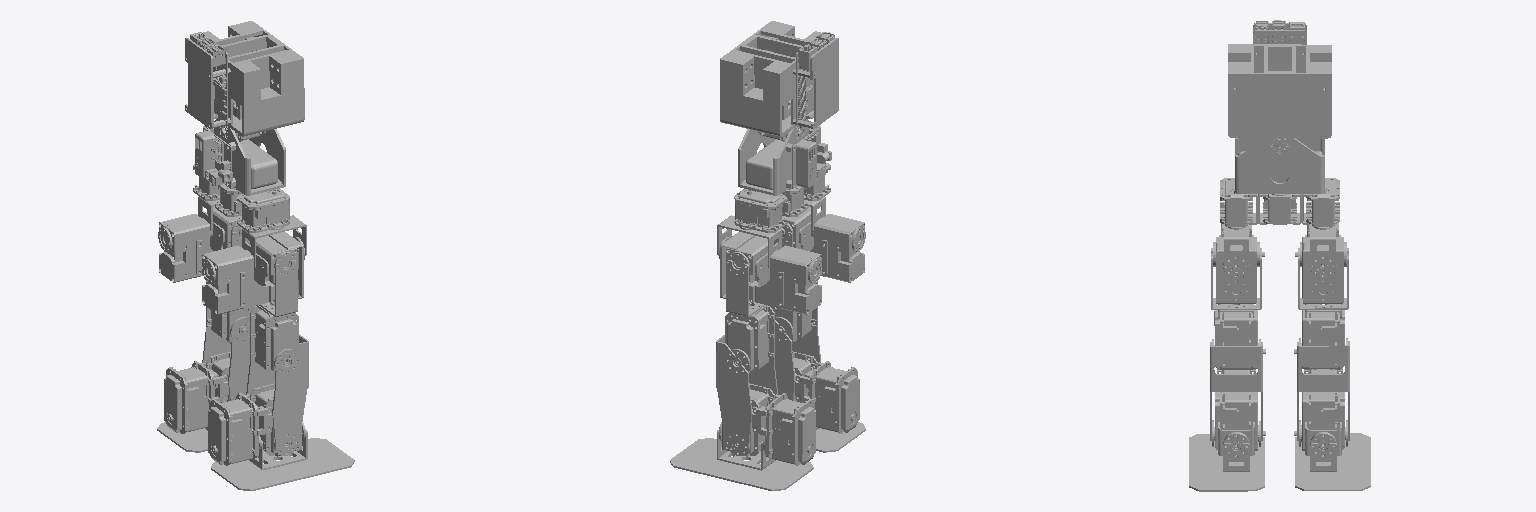
URDF robot description (rosaya_models):
<?xml version="1.0" encoding="utf-8"?>
<!-- This URDF was automatically created by SolidWorks to URDF Exporter! Originally created by [author] ([email redacted]) 
     Commit Version: 1.6.0-4-g7f85cfe  Build Version: 1.6.7995.38578
     For more information, please see http://wiki.ros.org/sw_urdf_exporter -->
<robot
  name="rosaya_models">
  <link
    name="Link1">
    <inertial>
      <origin
        xyz="-0.0140451869769053 -0.000102443179340425 0.424212396380785"
        rpy="0 0 0" />
      <mass
        value="0.264483114754865" />
      <inertia
        ixx="0.000377148965233947"
        ixy="2.5994599532165E-08"
        ixz="8.26900991274006E-06"
        iyy="0.000206025340153957"
        iyz="1.60054464463747E-07"
        izz="0.000337797285188758" />
    </inertial>
    <visual>
      <origin
        xyz="0 0 0"
        rpy="0 0 0" />
      <geometry>
        <mesh
          filename="package://rosaya_models/meshes/Link1.STL" />
      </geometry>
      <material
        name="">
        <color
          rgba="0.752941176470588 0.752941176470588 0.752941176470588 1" />
      </material>
    </visual>
    <collision>
      <origin
        xyz="0 0 0"
        rpy="0 0 0" />
      <geometry>
        <mesh
          filename="package://rosaya_models/meshes/Link1.STL" />
      </geometry>
    </collision>
  </link>
  <link
    name="Link2">
    <inertial>
      <origin
        xyz="0.0275163486490869 -0.000225038484028668 -0.0398526629439051"
        rpy="0 0 0" />
      <mass
        value="0.266759815938641" />
      <inertia
        ixx="0.000201939143646351"
        ixy="-2.02604473576346E-07"
        ixz="2.92452499794774E-07"
        iyy="6.97314124612398E-05"
        iyz="6.70715099069118E-07"
        izz="0.000208906968608255" />
    </inertial>
    <visual>
      <origin
        xyz="0 0 0"
        rpy="0 0 0" />
      <geometry>
        <mesh
          filename="package://rosaya_models/meshes/Link2.STL" />
      </geometry>
      <material
        name="">
        <color
          rgba="0.752941176470588 0.752941176470588 0.752941176470588 1" />
      </material>
    </visual>
    <collision>
      <origin
        xyz="0 0 0"
        rpy="0 0 0" />
      <geometry>
        <mesh
          filename="package://rosaya_models/meshes/Link2.STL" />
      </geometry>
    </collision>
  </link>
  <joint
    name="Joint1"
    type="revolute">
    <origin
      xyz="0.0150416145062784 -0.000145225937100715 0.375282029235617"
      rpy="0.00310746977134566 0 -3.14159265358979" />
    <parent
      link="Link1" />
    <child
      link="Link2" />
    <axis
      xyz="-1 0 0" />
    <limit 
      effort= "0" velocity="0" lower="-1" upper="1"/>
    <safety_controller 
      k_velocity="0" k_position="0" soft_lower_limit="-0.6" soft_upper_limit="0.6" />
  </joint>
  <link
    name="Link3">
    <inertial>
      <origin
        xyz="-0.0108043634184127 2.16609979877824E-06 -0.0246321946172634"
        rpy="0 0 0" />
      <mass
        value="0.141461102552141" />
      <inertia
        ixx="2.39627133598282E-05"
        ixy="2.90037379199943E-09"
        ixz="1.8274454421264E-07"
        iyy="3.84330097232021E-05"
        iyz="-3.81895596612324E-11"
        izz="3.16699542466875E-05" />
    </inertial>
    <visual>
      <origin
        xyz="0 0 0"
        rpy="0 0 0" />
      <geometry>
        <mesh
          filename="package://rosaya_models/meshes/Link3.STL" />
      </geometry>
      <material
        name="">
        <color
          rgba="0.752941176470588 0.752941176470588 0.752941176470588 1" />
      </material>
    </visual>
    <collision>
      <origin
        xyz="0 0 0"
        rpy="0 0 0" />
      <geometry>
        <mesh
          filename="package://rosaya_models/meshes/Link3.STL" />
      </geometry>
    </collision>
  </link>
  <joint
    name="Joint2"
    type="revolute">
    <origin
      xyz="0.0150417125919951 -0.00017124992576488 -0.0551096819554042"
      rpy="0.00310746977134566 0 3.14159265358979" />
    <parent
      link="Link2" />
    <child
      link="Link3" />
    <axis
      xyz="0 0 -1" />
    <limit 
      effort= "0" velocity="0" lower="-2" upper="2"/>
    <safety_controller 
      k_velocity="0" k_position="0" soft_lower_limit="-1.5" soft_upper_limit="1.5" />
  </joint>
  <link
    name="L_Link">
    <inertial>
      <origin
        xyz="2.50323684336529E-07 7.44298438559027E-08 -0.009497265940245"
        rpy="0 0 0" />
      <mass
        value="0.00620476919773645" />
      <inertia
        ixx="1.16709532356444E-06"
        ixy="2.24128152883016E-14"
        ixz="-1.31754042277062E-11"
        iyy="4.70615058588181E-06"
        iyz="-3.91750100003524E-12"
        izz="4.36737368608336E-06" />
    </inertial>
    <visual>
      <origin
        xyz="0 0 0"
        rpy="0 0 0" />
      <geometry>
        <mesh
          filename="package://rosaya_models/meshes/L_Link.STL" />
      </geometry>
      <material
        name="">
        <color
          rgba="0.752941176470588 0.752941176470588 0.752941176470588 1" />
      </material>
    </visual>
    <collision>
      <origin
        xyz="0 0 0"
        rpy="0 0 0" />
      <geometry>
        <mesh
          filename="package://rosaya_models/meshes/L_Link.STL" />
      </geometry>
    </collision>
  </link>
  <joint
    name="Joint3"
    type="revolute">
    <origin
      xyz="0 0.045659264836335 -0.0460755308216049"
      rpy="0 0 -0.000200463315012628" />
    <parent
      link="Link3" />
    <child
      link="L_Link" />
    <axis
      xyz="0 0 -1" />
    <limit 
      effort= "0" velocity="0" lower="-1" upper="1"/>
    <safety_controller 
      k_velocity="0" k_position="0" soft_lower_limit="-0.7" soft_upper_limit="0.7" />
  </joint>
  <link
    name="L_Link1">
    <inertial>
      <origin
        xyz="0.00657311272351697 -0.000309350747005263 -0.0151748569832827"
        rpy="0 0 0" />
      <mass
        value="0.18639489707273" />
      <inertia
        ixx="7.83297449900637E-05"
        ixy="3.05121819265623E-12"
        ixz="-1.95916960725846E-07"
        iyy="7.66987387899111E-05"
        iyz="1.61633318765208E-07"
        izz="4.72446830208299E-05" />
    </inertial>
    <visual>
      <origin
        xyz="0 0 0"
        rpy="0 0 0" />
      <geometry>
        <mesh
          filename="package://rosaya_models/meshes/L_Link1.STL" />
      </geometry>
      <material
        name="">
        <color
          rgba="0.752941176470588 0.752941176470588 0.752941176470588 1" />
      </material>
    </visual>
    <collision>
      <origin
        xyz="0 0 0"
        rpy="0 0 0" />
      <geometry>
        <mesh
          filename="package://rosaya_models/meshes/L_Link1.STL" />
      </geometry>
    </collision>
  </link>
  <joint
    name="Joint5"
    type="revolute">
    <origin
      xyz="-0.0317500000000014 0 -0.0339141545469447"
      rpy="0.000537539761406673 0 0" />
    <parent
      link="L_Link" />
    <child
      link="L_Link1" />
    <axis
      xyz="-1 0 0" />
    <limit 
      effort= "0" velocity="0" lower="-0.7" upper="0.7"/>
    <safety_controller 
      k_velocity="0" k_position="0" soft_lower_limit="-0.25" soft_upper_limit="0.25" />
  </joint>
  <link
    name="L_Link2">
    <inertial>
      <origin
        xyz="-0.000485947927418726 0.0245791199167028 -0.0913077482560078"
        rpy="0 0 0" />
      <mass
        value="0.0990788181499382" />
      <inertia
        ixx="4.93824228389883E-05"
        ixy="-2.94635540720296E-09"
        ixz="-1.12132818777156E-07"
        iyy="3.6564094548438E-05"
        iyz="-1.06282556014619E-06"
        izz="2.89120074625432E-05" />
    </inertial>
    <visual>
      <origin
        xyz="0 0 0"
        rpy="0 0 0" />
      <geometry>
        <mesh
          filename="package://rosaya_models/meshes/L_Link2.STL" />
      </geometry>
      <material
        name="">
        <color
          rgba="0.752941176470588 0.752941176470588 0.752941176470588 1" />
      </material>
    </visual>
    <collision>
      <origin
        xyz="0 0 0"
        rpy="0 0 0" />
      <geometry>
        <mesh
          filename="package://rosaya_models/meshes/L_Link2.STL" />
      </geometry>
    </collision>
  </link>
  <joint
    name="Joint7"
    type="revolute">
    <origin
      xyz="0.0317200000000001 -0.0244999999999996 0"
      rpy="0 0 0" />
    <parent
      link="L_Link1" />
    <child
      link="L_Link2" />
    <axis
      xyz="0 -1 0" />
    <limit 
      effort= "0" velocity="0" lower="-0.8" upper="2"/>
    <safety_controller 
      k_velocity="0" k_position="0" soft_lower_limit="-0.45" soft_upper_limit="1.5" />
  </joint>
  <link
    name="L_Link3">
    <inertial>
      <origin
        xyz="0.00932898247433369 0.0260353980000009 -0.0336820846788216"
        rpy="0 0 0" />
      <mass
        value="0.0193582268613659" />
      <inertia
        ixx="3.00375991900623E-05"
        ixy="1.78753730372709E-20"
        ixz="-4.16144772485329E-06"
        iyy="2.14370365193727E-05"
        iyz="1.96098359812431E-19"
        izz="1.54337749522801E-05" />
    </inertial>
    <visual>
      <origin
        xyz="0 0 0"
        rpy="0 0 0" />
      <geometry>
        <mesh
          filename="package://rosaya_models/meshes/L_Link3.STL" />
      </geometry>
      <material
        name="">
        <color
          rgba="0.752941176470588 0.752941176470588 0.752941176470588 1" />
      </material>
    </visual>
    <collision>
      <origin
        xyz="0 0 0"
        rpy="0 0 0" />
      <geometry>
        <mesh
          filename="package://rosaya_models/meshes/L_Link3.STL" />
      </geometry>
    </collision>
  </link>
  <joint
    name="Joint9"
    type="revolute">
    <origin
      xyz="-0.000558037765886032 -0.00140000000000197 -0.112828252884564"
      rpy="0 -0.000303003582677282 0" />
    <parent
      link="L_Link2" />
    <child
      link="L_Link3" />
    <axis
      xyz="0 -1 0" />
    <limit 
      effort= "0" velocity="0" lower="-2.5" upper="0.5"/>
    <safety_controller 
      k_velocity="0" k_position="0" soft_lower_limit="-2.2" soft_upper_limit="0.2" />
  </joint>
  <link
    name="L_Link4">
    <inertial>
      <origin
        xyz="0.0229326730067766 -0.0259869723493596 0.0153883242508742"
        rpy="0 0 0" />
      <mass
        value="0.182895656171114" />
      <inertia
        ixx="7.53620801606469E-05"
        ixy="9.74709752344958E-14"
        ixz="-1.07043004505627E-06"
        iyy="7.48745810421612E-05"
        iyz="1.06447109761369E-06"
        izz="4.69411945289824E-05" />
    </inertial>
    <visual>
      <origin
        xyz="0 0 0"
        rpy="0 0 0" />
      <geometry>
        <mesh
          filename="package://rosaya_models/meshes/L_Link4.STL" />
      </geometry>
      <material
        name="">
        <color
          rgba="0.752941176470588 0.752941176470588 0.752941176470588 1" />
      </material>
    </visual>
    <collision>
      <origin
        xyz="0 0 0"
        rpy="0 0 0" />
      <geometry>
        <mesh
          filename="package://rosaya_models/meshes/L_Link4.STL" />
      </geometry>
    </collision>
  </link>
  <joint
    name="Joint11"
    type="revolute">
    <origin
      xyz="0 0 -0.0949999999999996"
      rpy="0 -0.000302748335169453 3.14159265358979" />
    <parent
      link="L_Link3" />
    <child
      link="L_Link4" />
    <axis
      xyz="0 -1 0" />
    <limit 
      effort= "0" velocity="0" lower="-2." upper="1"/>
    <safety_controller 
      k_velocity="0" k_position="0" soft_lower_limit="-1.62" soft_upper_limit="0.7" />
  </joint>
  <link
    name="L_Link5">
    <inertial>
      <origin
        xyz="-0.0279100000022213 -0.00784814161879391 -0.0292680262318618"
        rpy="0 0 0" />
      <mass
        value="0.0728910331350744" />
      <inertia
        ixx="3.33197131957481E-05"
        ixy="-2.71246541755995E-14"
        ixz="-8.07357015135364E-16"
        iyy="0.000102630001589937"
        iyz="-1.64946572156077E-12"
        izz="0.000132875198487612" />
    </inertial>
    <visual>
      <origin
        xyz="0 0 0"
        rpy="0 0 0" />
      <geometry>
        <mesh
          filename="package://rosaya_models/meshes/L_Link5.STL" />
      </geometry>
      <material
        name="">
        <color
          rgba="0.752941176470588 0.752941176470588 0.752941176470588 1" />
      </material>
    </visual>
    <collision>
      <origin
        xyz="0 0 0"
        rpy="0 0 0" />
      <geometry>
        <mesh
          filename="package://rosaya_models/meshes/L_Link5.STL" />
      </geometry>
    </collision>
  </link>
  <joint
    name="Joint13"
    type="revolute">
    <origin
      xyz="0.0235999999999932 -0.0259999999999994 0"
      rpy="0 0 0" />
    <parent
      link="L_Link4" />
    <child
      link="L_Link5" />
    <axis
      xyz="-1 0 0" />
    <limit 
      effort= "0" velocity="0" lower="-2" upper="2"/>
    <safety_controller 
      k_velocity="0" k_position="0" soft_lower_limit="-1.58" soft_upper_limit="1.58" />
  </joint>
  <link
    name="R_Link">
    <inertial>
      <origin
        xyz="2.50323684322651E-07 7.44298438298818E-08 -0.009497265940245"
        rpy="0 0 0" />
      <mass
        value="0.00620476919773645" />
      <inertia
        ixx="1.16709532356444E-06"
        ixy="2.24128168484417E-14"
        ixz="-1.31754042254942E-11"
        iyy="4.70615058588182E-06"
        iyz="-3.91750099867982E-12"
        izz="4.36737368608336E-06" />
    </inertial>
    <visual>
      <origin
        xyz="0 0 0"
        rpy="0 0 0" />
      <geometry>
        <mesh
          filename="package://rosaya_models/meshes/R_Link.STL" />
      </geometry>
      <material
        name="">
        <color
          rgba="0.752941176470588 0.752941176470588 0.752941176470588 1" />
      </material>
    </visual>
    <collision>
      <origin
        xyz="0 0 0"
        rpy="0 0 0" />
      <geometry>
        <mesh
          filename="package://rosaya_models/meshes/R_Link.STL" />
      </geometry>
    </collision>
  </link>
  <joint
    name="Joint4"
    type="revolute">
    <origin
      xyz="0 -0.0456592648363355 -0.0460755308216101"
      rpy="0 0 -0.000200463315012628" />
    <parent
      link="Link3" />
    <child
      link="R_Link" />
    <axis
      xyz="0 0 -1" />
    <limit 
      effort= "0" velocity="0" lower="-1" upper="1"/>
    <safety_controller 
      k_velocity="0" k_position="0" soft_lower_limit="-0.7" soft_upper_limit="0.7" />
  </joint>
  <link
    name="R_Link1">
    <inertial>
      <origin
        xyz="0.00657493812540676 0.000309357807021043 -0.0151748569832826"
        rpy="0 0 0" />
      <mass
        value="0.18639489707273" />
      <inertia
        ixx="7.83297449900636E-05"
        ixy="3.05121820196201E-12"
        ixz="-1.95917088531604E-07"
        iyy="7.6698738789911E-05"
        iyz="-1.62133778034599E-07"
        izz="4.72446830208299E-05" />
    </inertial>
    <visual>
      <origin
        xyz="0 0 0"
        rpy="0 0 0" />
      <geometry>
        <mesh
          filename="package://rosaya_models/meshes/R_Link1.STL" />
      </geometry>
      <material
        name="">
        <color
          rgba="0.752941176470588 0.752941176470588 0.752941176470588 1" />
      </material>
    </visual>
    <collision>
      <origin
        xyz="0 0 0"
        rpy="0 0 0" />
      <geometry>
        <mesh
          filename="package://rosaya_models/meshes/R_Link1.STL" />
      </geometry>
    </collision>
  </link>
  <joint
    name="Joint6"
    type="revolute">
    <origin
      xyz="-0.0317499999999999 0 -0.0339141545469453"
      rpy="0.000537539765574113 0 0" />
    <parent
      link="R_Link" />
    <child
      link="R_Link1" />
    <axis
      xyz="-1 0 0" />
    <limit 
      effort= "0" velocity="0" lower="-0.7" upper="0.7"/>
    <safety_controller 
      k_velocity="0" k_position="0" soft_lower_limit="-0.25" soft_upper_limit="0.25" />
  </joint>
  <link
    name="R_Link2">
    <inertial>
      <origin
        xyz="2.80111859402715E-05 0.0245791212735314 -0.0912599475740594"
        rpy="0 0 0" />
      <mass
        value="0.0990788181535519" />
      <inertia
        ixx="4.93830312794501E-05"
        ixy="2.31024992829368E-09"
        ixz="7.60281236107224E-09"
        iyy="3.65640945538293E-05"
        iyz="-1.06282733006272E-06"
        izz="2.89113990286086E-05" />
    </inertial>
    <visual>
      <origin
        xyz="0 0 0"
        rpy="0 0 0" />
      <geometry>
        <mesh
          filename="package://rosaya_models/meshes/R_Link2.STL" />
      </geometry>
      <material
        name="">
        <color
          rgba="0.752941176470588 0.752941176470588 0.752941176470588 1" />
      </material>
    </visual>
    <collision>
      <origin
        xyz="0 0 0"
        rpy="0 0 0" />
      <geometry>
        <mesh
          filename="package://rosaya_models/meshes/R_Link2.STL" />
      </geometry>
    </collision>
  </link>
  <joint
    name="Joint8"
    type="revolute">
    <origin
      xyz="0.031720000000165 0.0245000000000003 -4.90873395437297E-05"
      rpy="0 0 -3.14159265358979" />
    <parent
      link="R_Link1" />
    <child
      link="R_Link2" />
    <axis
      xyz="0 -1 0" />
    <limit 
      effort= "0" velocity="0" lower="-2" upper="0.8"/>
    <safety_controller 
      k_velocity="0" k_position="0" soft_lower_limit="-1.5" soft_upper_limit="0.45" />
  </joint>
  <link
    name="R_Link3">
    <inertial>
      <origin
        xyz="-0.00932898252848983 0.0260353980000001 -0.0336820846638228"
        rpy="0 0 0" />
      <mass
        value="0.0193582268613659" />
      <inertia
        ixx="3.00375992034434E-05"
        ixy="-2.69594705243283E-20"
        ixz="4.16144770137387E-06"
        iyy="2.14370365193727E-05"
        iyz="-1.88595165744634E-19"
        izz="1.54337749388988E-05" />
    </inertial>
    <visual>
      <origin
        xyz="0 0 0"
        rpy="0 0 0" />
      <geometry>
        <mesh
          filename="package://rosaya_models/meshes/R_Link3.STL" />
      </geometry>
      <material
        name="">
        <color
          rgba="0.752941176470588 0.752941176470588 0.752941176470588 1" />
      </material>
    </visual>
    <collision>
      <origin
        xyz="0 0 0"
        rpy="0 0 0" />
      <geometry>
        <mesh
          filename="package://rosaya_models/meshes/R_Link3.STL" />
      </geometry>
    </collision>
  </link>
  <joint
    name="Joint10"
    type="revolute">
    <origin
      xyz="0 -0.0014000000000008 -0.11278054553733"
      rpy="0 0 0" />
    <parent
      link="R_Link2" />
    <child
      link="R_Link3" />
    <axis
      xyz="0 -1 0" />
    <limit 
      effort= "0" velocity="0" lower="-0.5" upper="2.5"/>
    <safety_controller 
      k_velocity="0" k_position="0" soft_lower_limit="-0.2" soft_upper_limit="2.2" />
  </joint>
  <link
    name="R_Link4">
    <inertial>
      <origin
        xyz="-0.0229292401554875 -0.0259904059352682 0.0153884170261417"
        rpy="0 0 0" />
      <mass
        value="0.182895656171117" />
      <inertia
        ixx="7.53620801606485E-05"
        ixy="9.74709990804585E-14"
        ixz="1.07371232224204E-06"
        iyy="7.48745810421634E-05"
        iyz="1.06118336765581E-06"
        izz="4.69411945289827E-05" />
    </inertial>
    <visual>
      <origin
        xyz="0 0 0"
        rpy="0 0 0" />
      <geometry>
        <mesh
          filename="package://rosaya_models/meshes/R_Link4.STL" />
      </geometry>
      <material
        name="">
        <color
          rgba="0.752941176470588 0.752941176470588 0.752941176470588 1" />
      </material>
    </visual>
    <collision>
      <origin
        xyz="0 0 0"
        rpy="0 0 0" />
      <geometry>
        <mesh
          filename="package://rosaya_models/meshes/R_Link4.STL" />
      </geometry>
    </collision>
  </link>
  <joint
    name="Joint12"
    type="revolute">
    <origin
      xyz="0 0 -0.0949999999999999"
      rpy="0 0 3.14159265358979" />
    <parent
      link="R_Link3" />
    <child
      link="R_Link4" />
    <axis
      xyz="0 -1 0" />
    <limit 
      effort= "0" velocity="0" lower="-1" upper="2"/>
    <safety_controller 
      k_velocity="0" k_position="0" soft_lower_limit="-0.7" soft_upper_limit="1.62" />
  </joint>
  <link
    name="R_Link5">
    <inertial>
      <origin
        xyz="-0.0279100000022238 0.00784810174265635 -0.0292680262318556"
        rpy="0 0 0" />
      <mass
        value="0.0728910331350756" />
      <inertia
        ixx="3.3319713195748E-05"
        ixy="-2.71244792029117E-14"
        ixz="-8.07324395262557E-16"
        iyy="0.000102630001589938"
        iyz="-1.64946573526789E-12"
        izz="0.000132875198487613" />
    </inertial>
    <visual>
      <origin
        xyz="0 0 0"
        rpy="0 0 0" />
      <geometry>
        <mesh
          filename="package://rosaya_models/meshes/R_Link5.STL" />
      </geometry>
      <material
        name="">
        <color
          rgba="0.752941176470588 0.752941176470588 0.752941176470588 1" />
      </material>
    </visual>
    <collision>
      <origin
        xyz="0 0 0"
        rpy="0 0 0" />
      <geometry>
        <mesh
          filename="package://rosaya_models/meshes/R_Link5.STL" />
      </geometry>
    </collision>
  </link>
  <joint
    name="Joint14"
    type="revolute">
    <origin
      xyz="-0.0235999999999946 -0.0260000000000017 0"
      rpy="0 0 3.14159265358979" />
    <parent
      link="R_Link4" />
    <child
      link="R_Link5" />
    <axis
      xyz="-1 0 0" />
    <limit 
      effort= "0" velocity="0" lower="-2" upper="2"/>
    <safety_controller 
      k_velocity="0" k_position="0" soft_lower_limit="-1.58" soft_upper_limit="1.58" />
  </joint>
</robot>

--- Facts derived from the render (not from the file) ---
Views: 3 orthographic renders of the robot side by side, from view 1: azimuth 30°, elevation 25°; view 2: azimuth 150°, elevation 25°; view 3: azimuth 270°, elevation 25°.
Robot: rosaya_models — 15 links, 14 joints (14 revolute); root link Link1; default pose: every joint at zero.
Visible links, largest first — view 1: Link1, R_Link1, Link2, R_Link4, R_Link5, R_Link2, L_Link4, L_Link1, R_Link3, Link3, L_Link3, L_Link2 (+2 smaller); view 2: Link1, L_Link1, Link2, L_Link4, L_Link2, L_Link5, R_Link4, R_Link1, L_Link3, Link3, R_Link3, R_Link2 (+2 smaller); view 3: Link1, Link2, Link3, R_Link5, L_Link5, L_Link4, R_Link4, R_Link2, L_Link2, L_Link1, R_Link1, L_Link3 (+3 smaller).
Boxes of the visible links, left/top/right/bottom form: Link1: left=185, top=21, right=304, bottom=141; R_Link1: left=202, top=232, right=304, bottom=314; Link2: left=195, top=119, right=285, bottom=195; R_Link4: left=208, top=383, right=305, bottom=465; R_Link5: left=211, top=429, right=354, bottom=490; R_Link2: left=248, top=260, right=298, bottom=373; L_Link4: left=164, top=352, right=230, bottom=433; L_Link1: left=158, top=206, right=241, bottom=282; R_Link3: left=246, top=334, right=308, bottom=449; Link3: left=193, top=164, right=289, bottom=232; L_Link3: left=202, top=318, right=249, bottom=400; L_Link2: left=204, top=232, right=251, bottom=343; Link1: left=720, top=21, right=838, bottom=141; L_Link1: left=719, top=232, right=821, bottom=314; Link2: left=738, top=119, right=831, bottom=195; L_Link4: left=719, top=383, right=815, bottom=465; L_Link2: left=725, top=260, right=776, bottom=373; L_Link5: left=670, top=430, right=813, bottom=490; R_Link4: left=792, top=351, right=859, bottom=433; R_Link1: left=782, top=206, right=865, bottom=282; L_Link3: left=716, top=335, right=777, bottom=449; Link3: left=734, top=162, right=830, bottom=232; R_Link3: left=775, top=320, right=820, bottom=400; R_Link2: left=773, top=232, right=817, bottom=343; Link1: left=1228, top=20, right=1331, bottom=150; Link2: left=1235, top=138, right=1324, bottom=193; Link3: left=1220, top=178, right=1339, bottom=229; R_Link5: left=1189, top=434, right=1264, bottom=491; L_Link5: left=1295, top=433, right=1370, bottom=490; L_Link4: left=1294, top=368, right=1347, bottom=455; R_Link4: left=1212, top=368, right=1265, bottom=455; R_Link2: left=1211, top=248, right=1265, bottom=369; L_Link2: left=1294, top=248, right=1348, bottom=369; L_Link1: left=1295, top=223, right=1346, bottom=303; R_Link1: left=1213, top=223, right=1264, bottom=303; L_Link3: left=1297, top=341, right=1349, bottom=440.
Size in the robot's own frame: 0.155 by 0.1908 by 0.4824 metres.
Meshes: 15 distinct files referenced, 15 mesh visuals loaded (15 binary STL).
